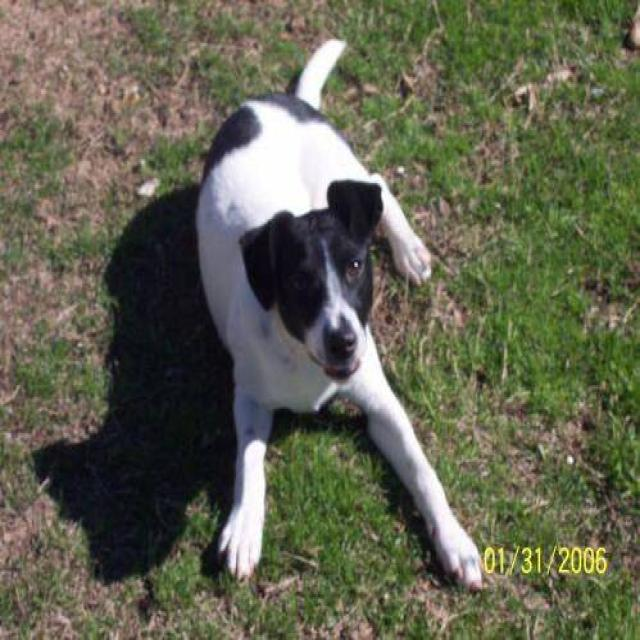dog: (194, 36, 484, 592)
